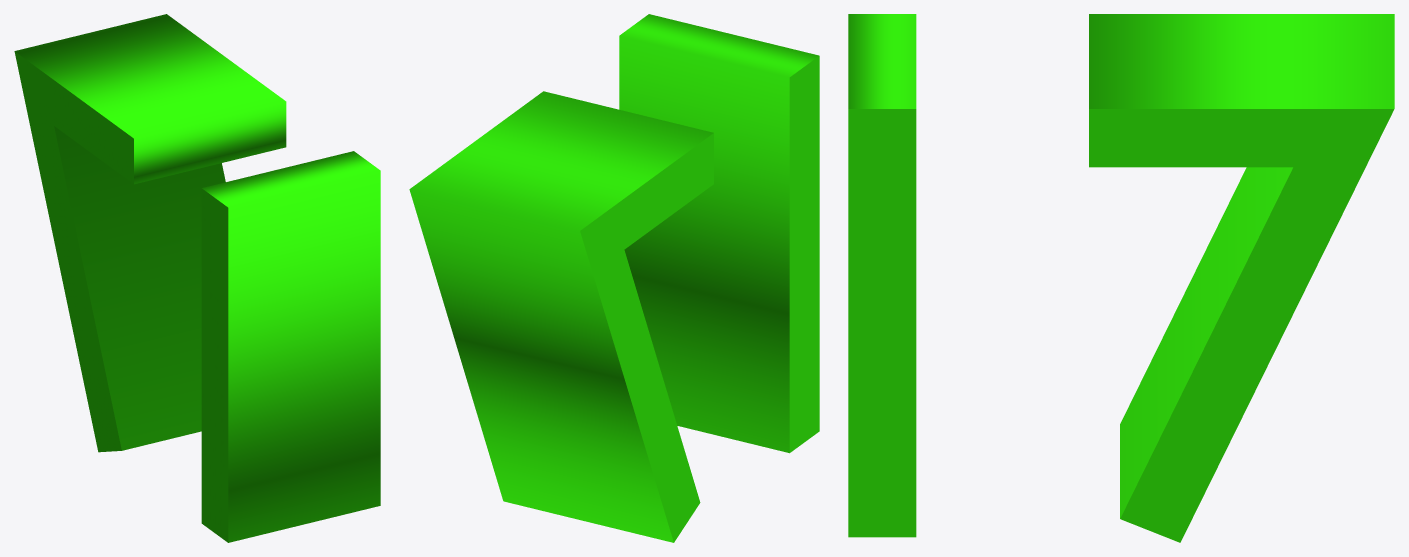
Rendered from number17.obj.
The picture shows the model from 3 angles, left to right: view 1: azimuth 30°, elevation 25°; view 2: azimuth 150°, elevation 25°; view 3: azimuth 270°, elevation 25°; orthographic projection. The views are drawn at different scales.
Visible parts, largest first — view 1: Text.015_Text.022; view 2: Text.015_Text.022; view 3: Text.015_Text.022.
Part boxes in pixels (x1,y1,x2,y2): Text.015_Text.022: (14,14,380,542); Text.015_Text.022: (409,14,819,542); Text.015_Text.022: (848,14,1394,542).
Bounding box in the file's own units: 2.23 × 4.76 × 5.43.
